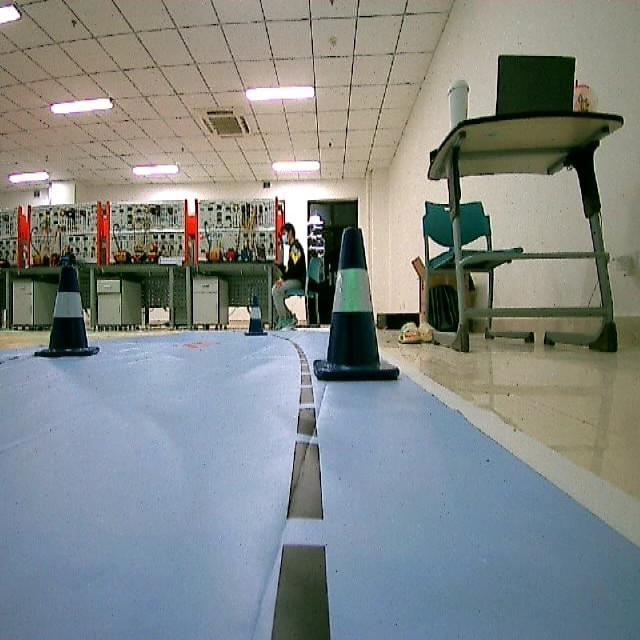obstacle: (318, 224, 400, 383), (36, 260, 100, 358), (245, 292, 268, 338)
